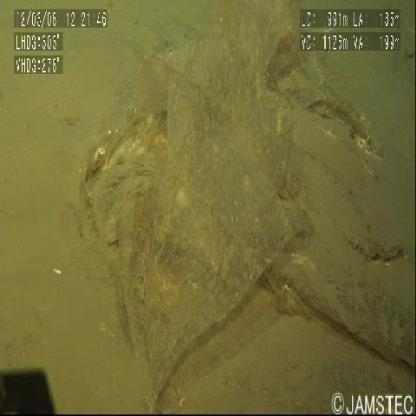Rác: (75, 11, 416, 378)
